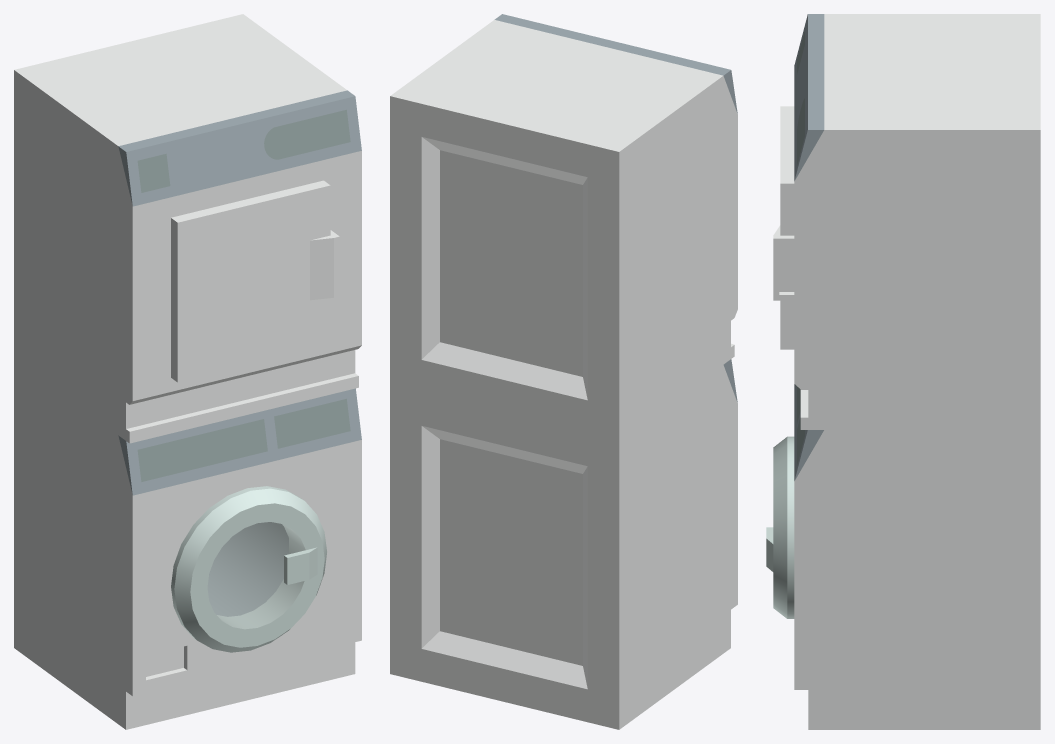
Rendered from washerDryerStacked.optimized.glb.
3 renders of one model, left to right at view 1: azimuth 30°, elevation 25°; view 2: azimuth 150°, elevation 25°; view 3: azimuth 270°, elevation 25°, orthographic. The views are drawn at different scales.
Parts seen in each view (by area): view 1: washerDryerStacked(Clone), washerDoor; view 2: washerDryerStacked(Clone); view 3: washerDryerStacked(Clone).
Part boxes in pixels (left/top/right/bottom): washerDryerStacked(Clone): left=14, top=14, right=361, bottom=729; washerDoor: left=207, top=522, right=305, bottom=629; washerDryerStacked(Clone): left=390, top=14, right=737, bottom=729; washerDryerStacked(Clone): left=766, top=14, right=1040, bottom=729.
Bounding box in the file's own units: 0.3899 × 0.94 × 0.3899.
2 materials, 2 textured.
